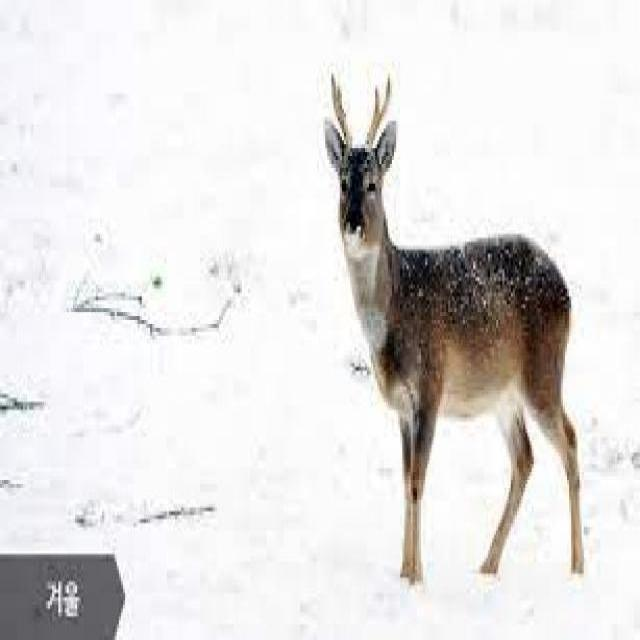deer: (320, 58, 592, 597)
